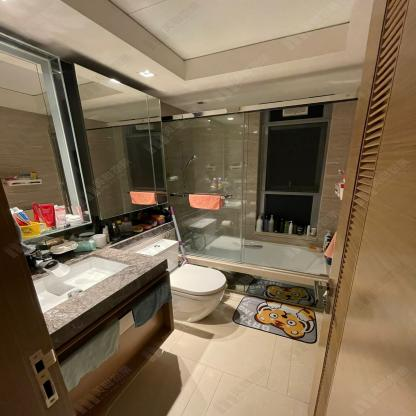Bathtub: (179, 233, 328, 311)
Exhaust Fan: (282, 106, 308, 116)
Faucet: (24, 248, 72, 280)
Toilet: (135, 239, 226, 323)
Toilet Sink: (32, 246, 168, 350)
